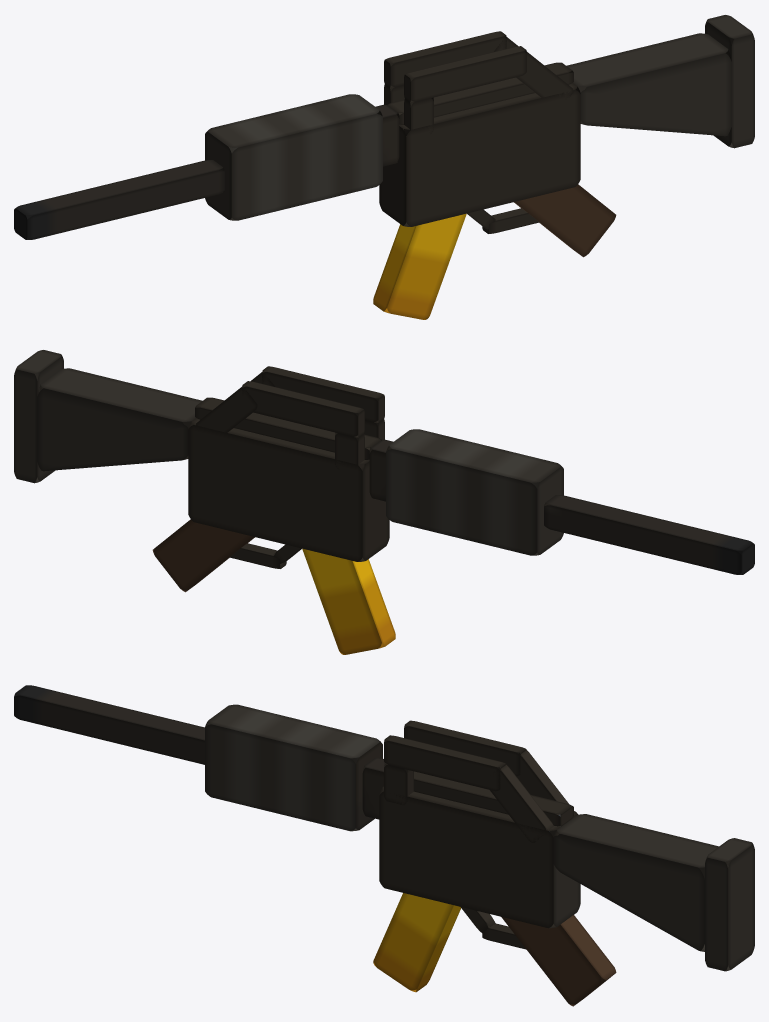
File: Assault Rifle.obj
The picture shows the model from 3 angles, top to bottom: view 1: azimuth 30°, elevation 25°; view 2: azimuth 150°, elevation 25°; view 3: azimuth 330°, elevation 25°; orthographic projection.
Parts seen in each view (by area): view 1: cube; view 2: cube; view 3: cube.
Boxes of the visible parts, x1,y1,x2,y2 form: cube: [14, 15, 754, 319]; cube: [14, 350, 754, 654]; cube: [14, 685, 754, 1006].
Size of the model in its own units: 0.9688 by 0.3247 by 0.0625.
